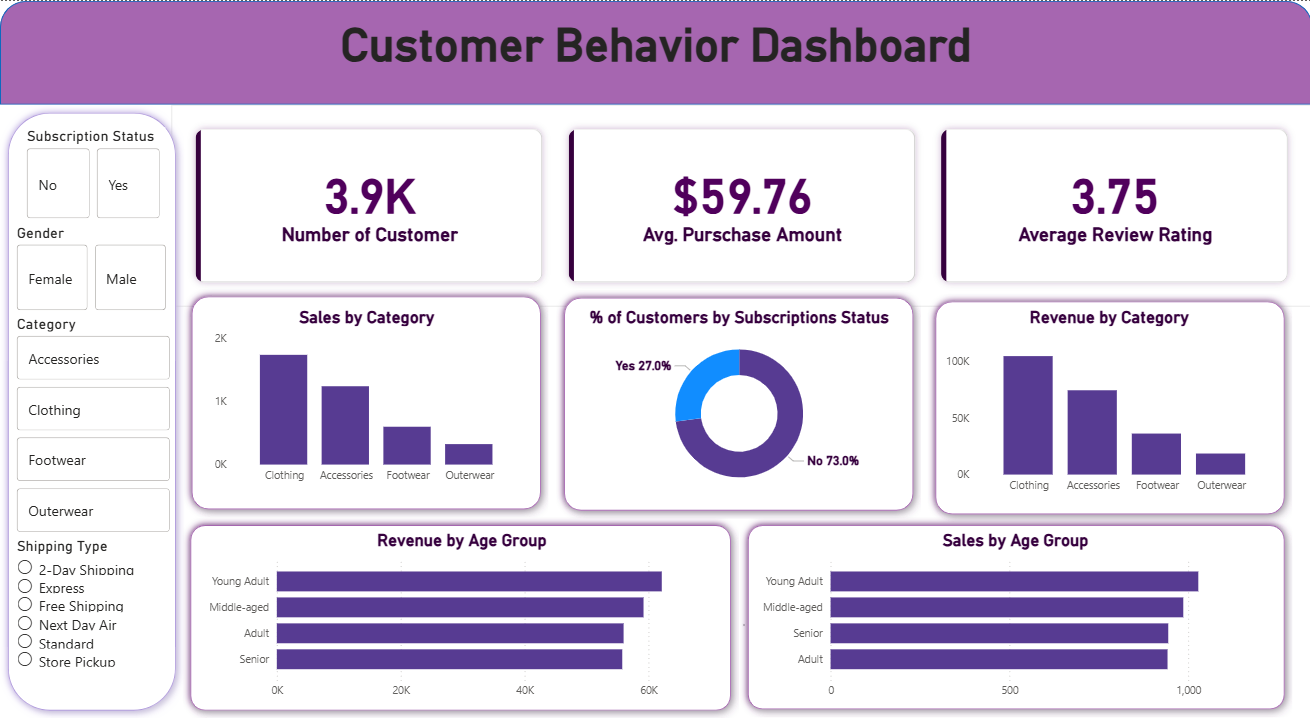

The dashboard page shown, as its layout file describes it:
{"tool":"powerbi","page":{"name":"Page 1","canvas":[1500,820],"ordinal":0},"visuals":[{"type":"cardVisual","fields":{"Data":["public customer.Number of Customer","public customer.Avg. Purschase Amount","public customer.Average Review Rating"]},"box":[195.7,118.6,1304.3,231.4],"z":0},{"type":"shape","box":[0,0,1500,118.6],"z":1000},{"type":"textbox","box":[0,14.3,1500,94.3],"z":2000},{"type":"textbox","box":[843.8,707.5,12.5,12.5],"z":3000},{"type":"shape","box":[1060,334.3,417.1,261.4],"z":4000},{"type":"clusteredColumnChart","title":"Revenue by Category","fields":{"Y":["Sum(public customer.purchase_amount)"],"Category":["public customer.category"]},"box":[1075.7,350,384.3,221.4],"z":5000},{"type":"shape","box":[635.7,330,417.1,261.4],"z":6000},{"type":"shape","box":[210,328.6,417.1,261.4],"z":7000},{"type":"donutChart","title":"% of Customers by Subscriptions Status","fields":{"Category":["public customer.subscription_status"],"Y":["CountNonNull(public customer.customer_id)"]},"box":[651.4,350,387.1,221.4],"z":8000},{"type":"clusteredColumnChart","title":"Sales by Category","fields":{"Y":["CountNonNull(public customer.customer_id)"],"Category":["public customer.category"]},"box":[240,350,358.6,210],"z":9000},{"type":"shape","box":[0,118.6,210,701.4],"z":10000},{"type":"advancedSlicerVisual","title":"Subscription Status","fields":{"Values":["public customer.subscription_status"]},"box":[25.7,144.3,162.9,110],"z":11000},{"type":"advancedSlicerVisual","title":"Gender","fields":{"Values":["public customer.gender"]},"box":[14.3,254.3,181.4,104.3],"z":12000},{"type":"advancedSlicerVisual","title":"Category","fields":{"Values":["public customer.category"]},"box":[14.3,358.6,185.7,254.3],"z":13000},{"type":"listSlicer","title":"Shipping Type","fields":{"Values":["public customer.shipping_type"]},"box":[14.3,612.9,181.4,158.6],"z":14000},{"type":"shape","box":[208.6,590,635.7,230],"z":15000},{"type":"shape","box":[845.7,590,628.6,228.6],"z":16000},{"type":"clusteredBarChart","title":"Revenue by Age Group","fields":{"Y":["Sum(public customer.purchase_amount)"],"Category":["public customer.age_group"]},"box":[228.6,605.7,598.6,200],"z":17000},{"type":"clusteredBarChart","title":"Sales by Age Group","fields":{"Category":["public customer.age_group"],"Y":["CountNonNull(public customer.customer_id)"]},"box":[861.4,604.3,598.6,200],"z":18000}]}

Visuals, with their boxes in screenshot pixels (x1, y1, x2, y2), scaled from the page's 1500x820 canvas onto the 1310x718 screenshot:
cardVisual - public customer.Number of Customer x public customer.Avg. Purschase Amount: <region>171, 104, 1309, 306</region>
shape: <region>0, 0, 1309, 104</region>
textbox: <region>0, 13, 1309, 95</region>
textbox: <region>737, 619, 748, 630</region>
shape: <region>926, 293, 1290, 522</region>
"Revenue by Category" clusteredColumnChart: <region>939, 306, 1275, 500</region>
shape: <region>555, 289, 919, 518</region>
shape: <region>183, 288, 548, 517</region>
"% of Customers by Subscriptions Status" donutChart: <region>569, 306, 907, 500</region>
"Sales by Category" clusteredColumnChart: <region>210, 306, 523, 490</region>
shape: <region>0, 104, 183, 717</region>
"Subscription Status" advancedSlicerVisual: <region>22, 126, 165, 223</region>
"Gender" advancedSlicerVisual: <region>12, 223, 171, 314</region>
"Category" advancedSlicerVisual: <region>12, 314, 175, 537</region>
"Shipping Type" listSlicer: <region>12, 537, 171, 676</region>
shape: <region>182, 517, 737, 717</region>
shape: <region>739, 517, 1288, 717</region>
"Revenue by Age Group" clusteredBarChart: <region>200, 530, 722, 705</region>
"Sales by Age Group" clusteredBarChart: <region>752, 529, 1275, 704</region>
